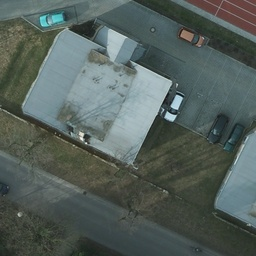car: (164, 89, 185, 125), (206, 113, 228, 145), (223, 120, 245, 152), (178, 28, 204, 51), (41, 12, 67, 28)
